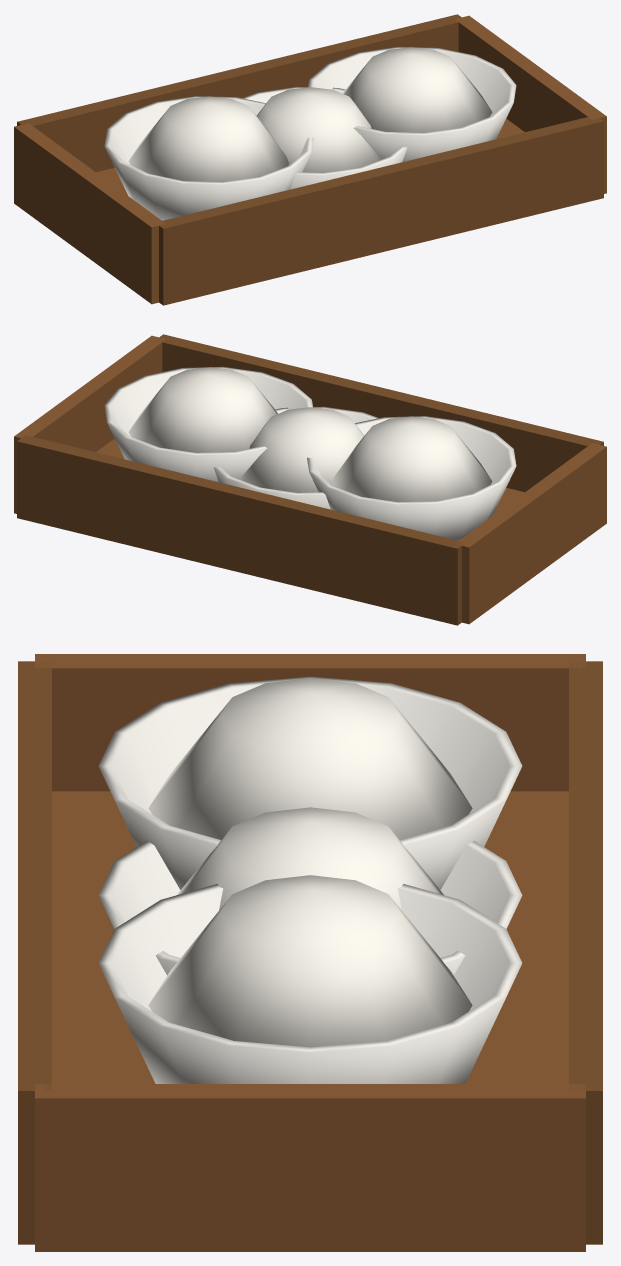
The model's file is Dish_Rice.fbx.
3 views of the same model, one above another, from view 1: azimuth 30°, elevation 25°; view 2: azimuth 150°, elevation 25°; view 3: azimuth 270°, elevation 25° (orthographic). The views are drawn at different scales.
Visible parts, largest first — view 1: Dish_Rice__Stack, Dish_Rice; view 2: Dish_Rice__Stack, Dish_Rice; view 3: Dish_Rice__Stack, Dish_Rice.
Part boxes in pixels (x1,y1,x2,y2): Dish_Rice__Stack: (14,14,606,305); Dish_Rice: (242,86,407,189); Dish_Rice__Stack: (14,334,606,625); Dish_Rice: (213,406,378,509); Dish_Rice__Stack: (18,654,602,1251); Dish_Rice: (98,807,522,975).
Bounding box in the file's own units: 0.248 × 0.062 × 0.138.
